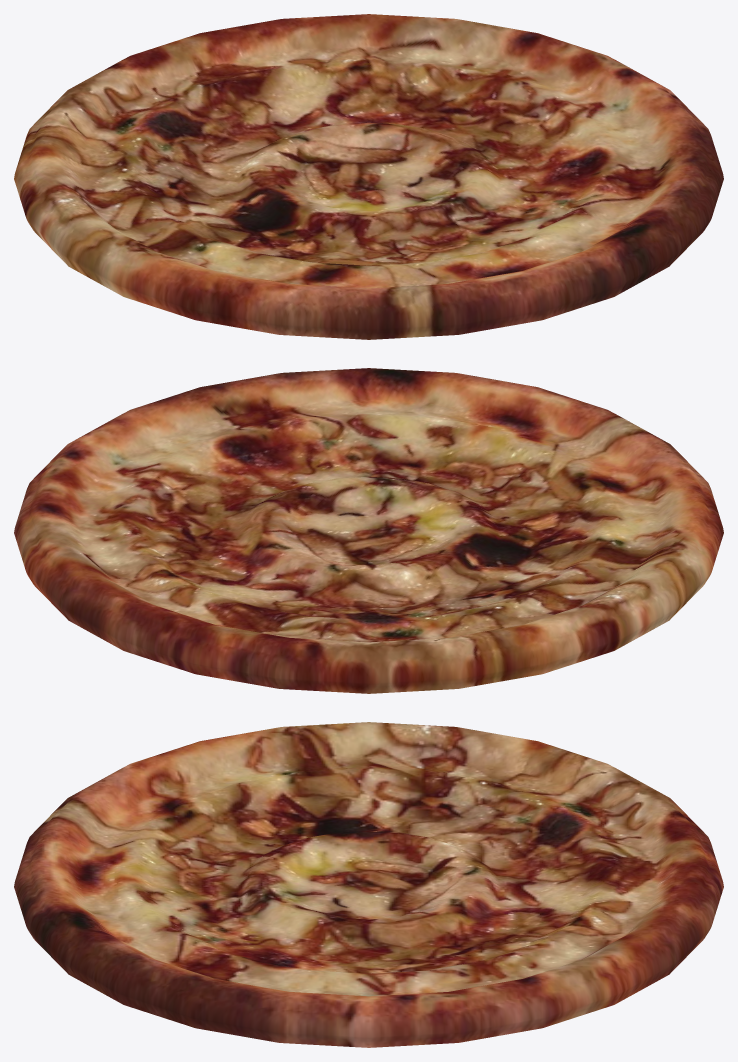
Rendered from meat_3.glb.
3 views of the same model, one above another, from view 1: azimuth 30°, elevation 25°; view 2: azimuth 150°, elevation 25°; view 3: azimuth 270°, elevation 25° (orthographic).
Parts seen in each view (by area): view 1: Material2.020; view 2: Material2.020; view 3: Material2.020.
Boxes of the visible parts, bbox=[...] form: Material2.020: bbox=[14, 14, 723, 339]; Material2.020: bbox=[14, 368, 723, 693]; Material2.020: bbox=[14, 722, 723, 1047].
Size of the model in its own units: 1.25 by 0.0755 by 1.25.
Materials: 1 (1 with a texture image).
